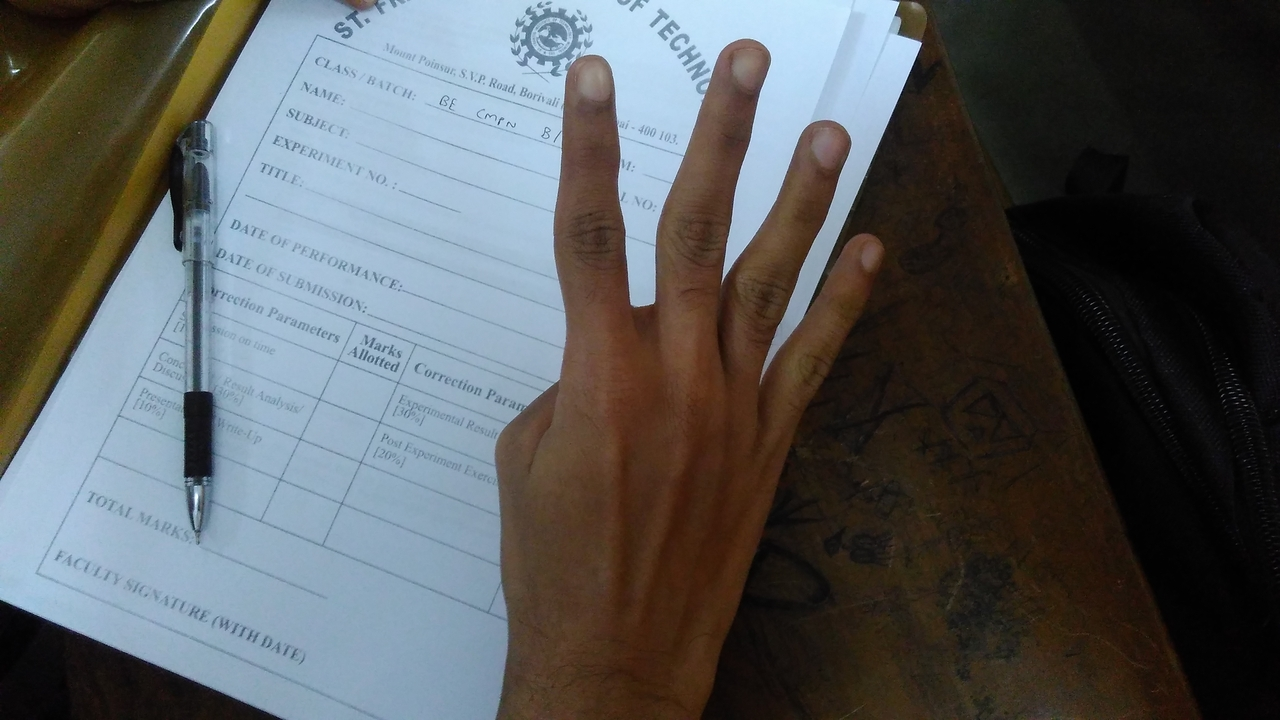fingertip: (826, 224, 896, 284), (790, 112, 858, 172), (562, 54, 616, 110), (716, 40, 772, 90)
